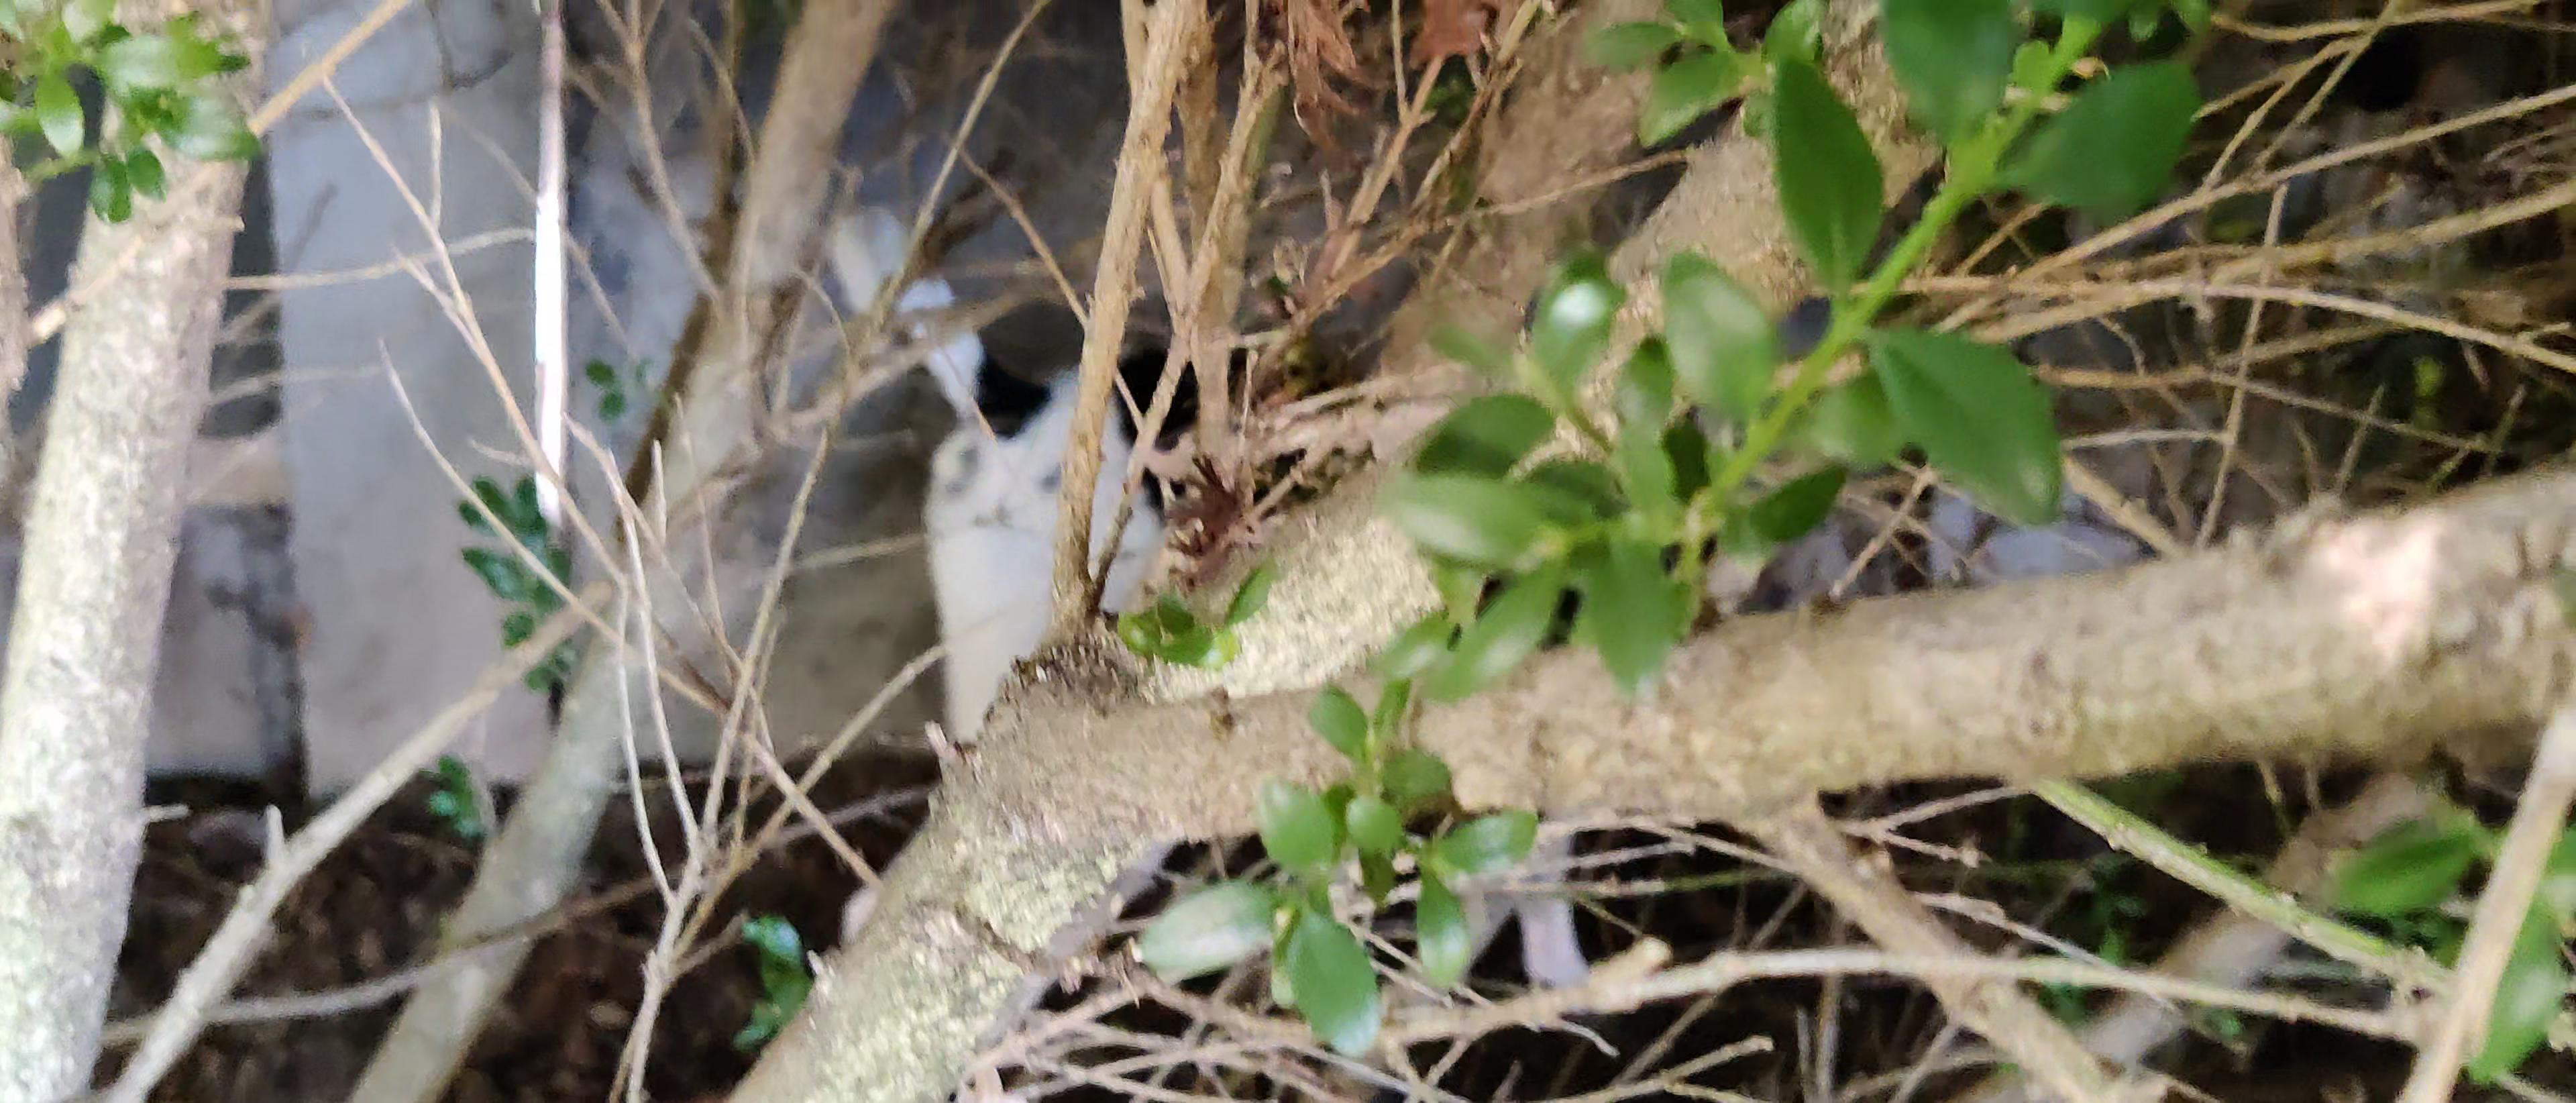Dog: (810, 171, 1607, 988)
